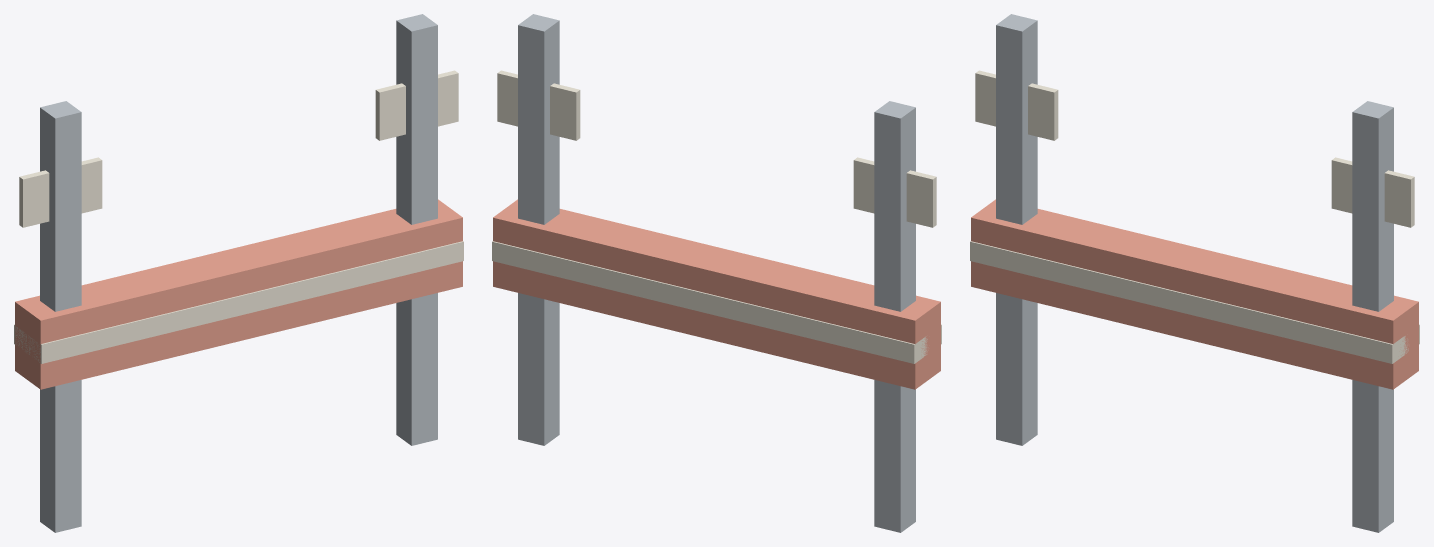
File: overhead_bar.glb
The picture shows the model from 3 angles, left to right: view 1: azimuth 30°, elevation 25°; view 2: azimuth 150°, elevation 25°; view 3: azimuth 330°, elevation 25°; orthographic projection.
Visible parts, largest first — view 1: overhead_bar; view 2: overhead_bar; view 3: overhead_bar.
Boxes of the visible parts, x1,y1,x2,y2 form: overhead_bar: (14, 14, 463, 532); overhead_bar: (492, 14, 941, 532); overhead_bar: (970, 14, 1419, 532).
Bounding box in the file's own units: 3.3 × 3 × 0.36.
